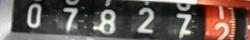digits: (92, 8, 116, 34), (135, 7, 154, 33), (175, 12, 192, 38), (26, 2, 42, 28), (62, 7, 78, 31), (213, 22, 229, 39)
